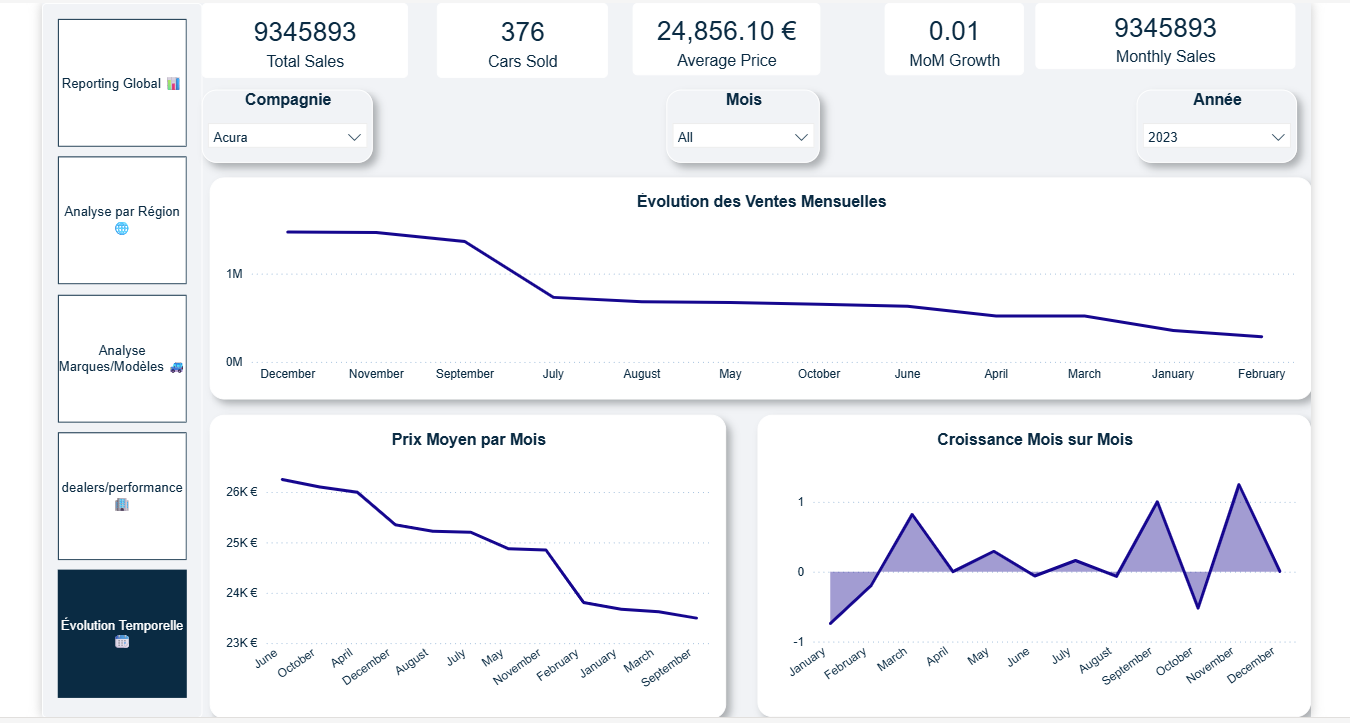

The page's visual inventory and layout, read from the dashboard file:
{"tool":"powerbi","page":{"name":"\tÉvolution Temporelle 📆","canvas":[1280,720],"ordinal":4},"visuals":[{"type":"pageNavigator","box":[0,0,161.9,720.6],"z":0},{"type":"card","fields":{"Values":["mesmesure.Total Sales"]},"box":[161.3,0,208.1,75.8],"z":1000},{"type":"card","fields":{"Values":["mesmesure.Cars Sold"]},"box":[398.5,0,172.6,75.8],"z":2000},{"type":"card","fields":{"Values":["mesmesure.Average Price"]},"box":[595.9,0,189.4,72.9],"z":3000},{"type":"card","fields":{"Values":["mesmesure.MoM Growth"]},"box":[850.1,0,140.9,72.9],"z":4000},{"type":"lineChart","title":"Évolution des Ventes Mensuelles","fields":{"Y":["mesmesure.Total Sales"],"Category":["DateTable.Month"]},"box":[169.4,175.9,1111.7,224.3],"z":5000},{"type":"lineChart","title":"Prix Moyen par Mois","fields":{"Y":["mesmesure.Average Price"],"Category":["DateTable.Month"]},"box":[169.4,414.7,521.1,306.6],"z":6000},{"type":"areaChart","title":"Croissance Mois sur Mois","fields":{"Y":["mesmesure.MoM Growth"],"Category":["DateTable.Date.Variation.Date Hierarchy.Month"]},"box":[721.2,414.7,558.3,304.9],"z":7000},{"type":"slicer","title":"Compagnie","fields":{"Values":["Ventes.Company"]},"box":[161.3,87.1,172.6,74.2],"z":8000},{"type":"card","fields":{"Values":["mesmesure.Monthly Sales"]},"box":[1002.3,0,262.3,66.4],"z":9000},{"type":"slicer","title":"Mois","fields":{"Values":["DateTable.Month"]},"box":[629.2,87.1,154.9,74.2],"z":10000},{"type":"slicer","title":"Année","fields":{"Values":["DateTable.Year"]},"box":[1103.6,87.1,161.3,74.2],"z":11000}]}

Visuals, with their boxes on the page's 1280x720 design canvas (x1, y1, x2, y2). These are canvas units, not pixel positions in the 1350x723 screenshot, which may show the page scaled, cropped or inside an application window:
pageNavigator: (0, 0, 162, 721)
card - mesmesure.Total Sales: (161, 0, 369, 76)
card - mesmesure.Cars Sold: (398, 0, 571, 76)
card - mesmesure.Average Price: (596, 0, 785, 73)
card - mesmesure.MoM Growth: (850, 0, 991, 73)
"Évolution des Ventes Mensuelles" lineChart: (169, 176, 1281, 400)
"Prix Moyen par Mois" lineChart: (169, 415, 690, 721)
"Croissance Mois sur Mois" areaChart: (721, 415, 1280, 720)
"Compagnie" slicer: (161, 87, 334, 161)
card - mesmesure.Monthly Sales: (1002, 0, 1265, 66)
"Mois" slicer: (629, 87, 784, 161)
"Année" slicer: (1104, 87, 1265, 161)
